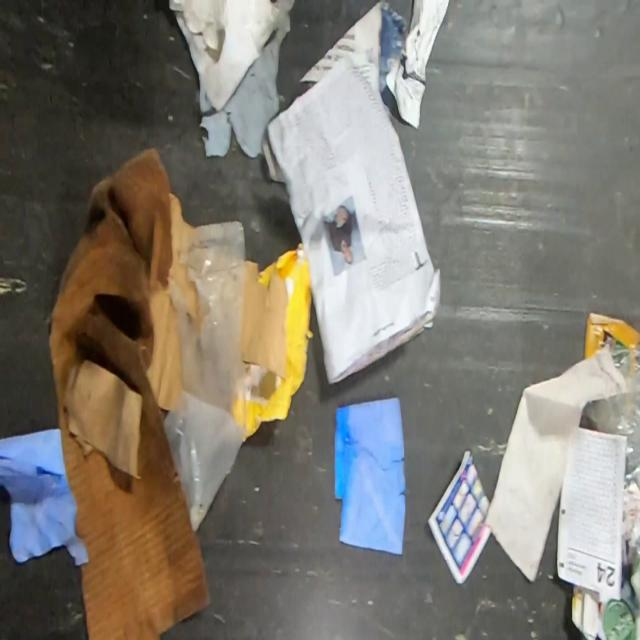cardboard: (48, 145, 212, 638), (240, 260, 287, 380)
soft_plastic: (163, 219, 245, 542), (587, 342, 640, 576)
